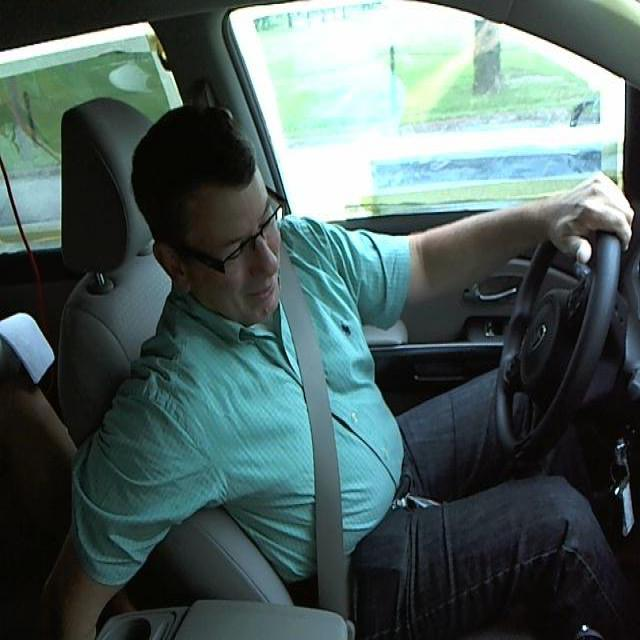seatbelt: (267, 267, 369, 601)
